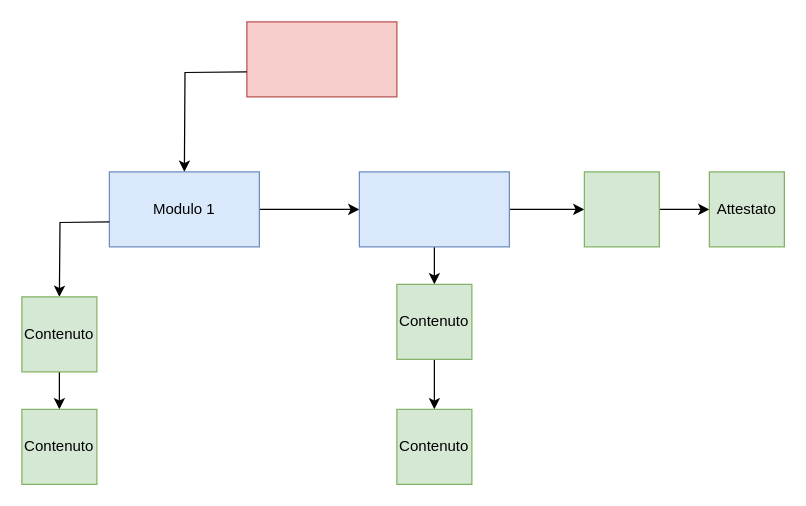
Image size: 806x506. Some labels were removed from this diagram. The shapes that lost their labels are listed below. From the top down, each one's centre as x and y in pixels, then its label:
At [321,59]: "CORSO".
At [433,209]: "Modulo 2".
At [621,209]: "Quiz".
